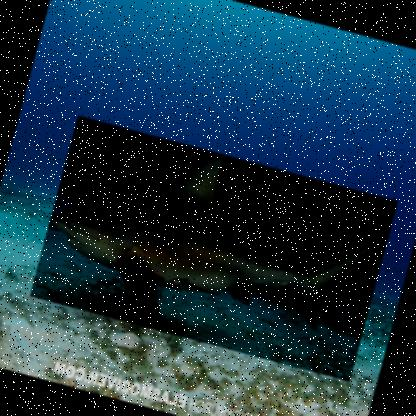bulldog-shark: (27, 113, 396, 381)
